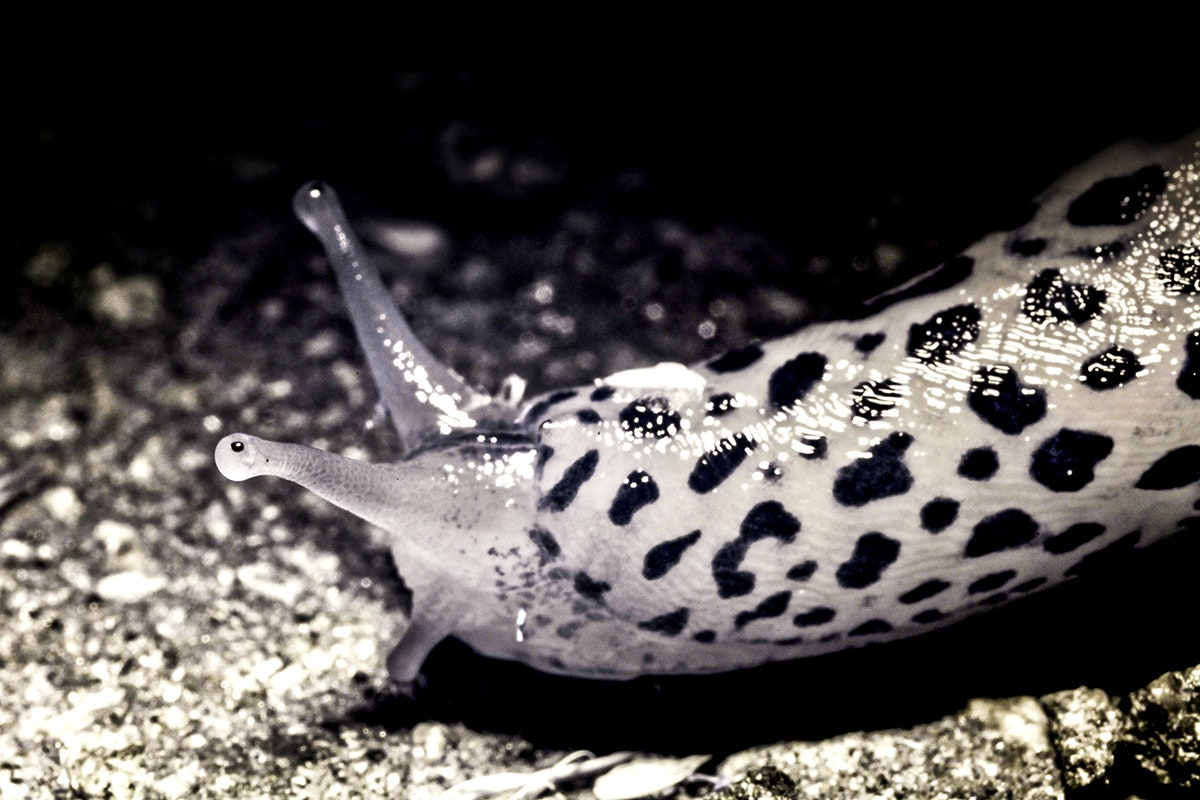slug: (227, 146, 1200, 720)
